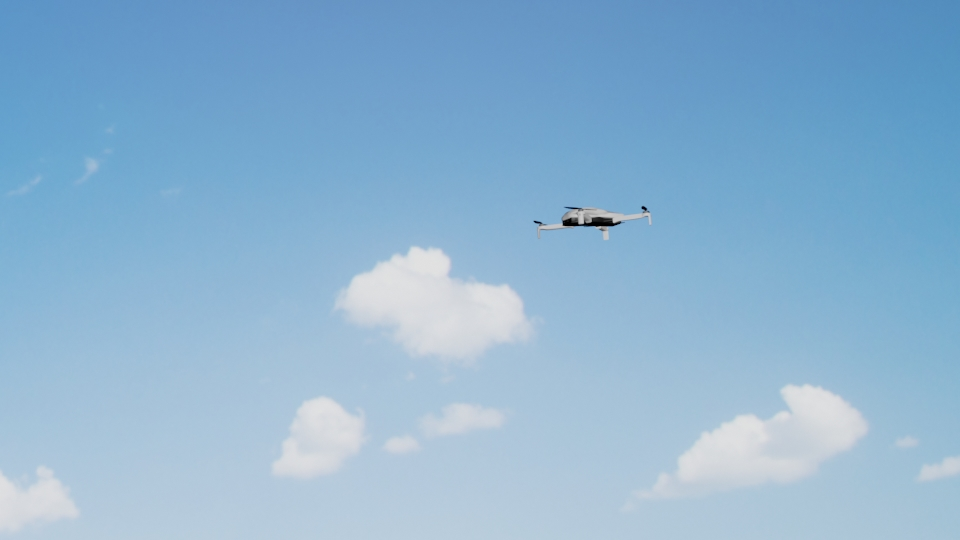drone: (533, 201, 657, 243)
